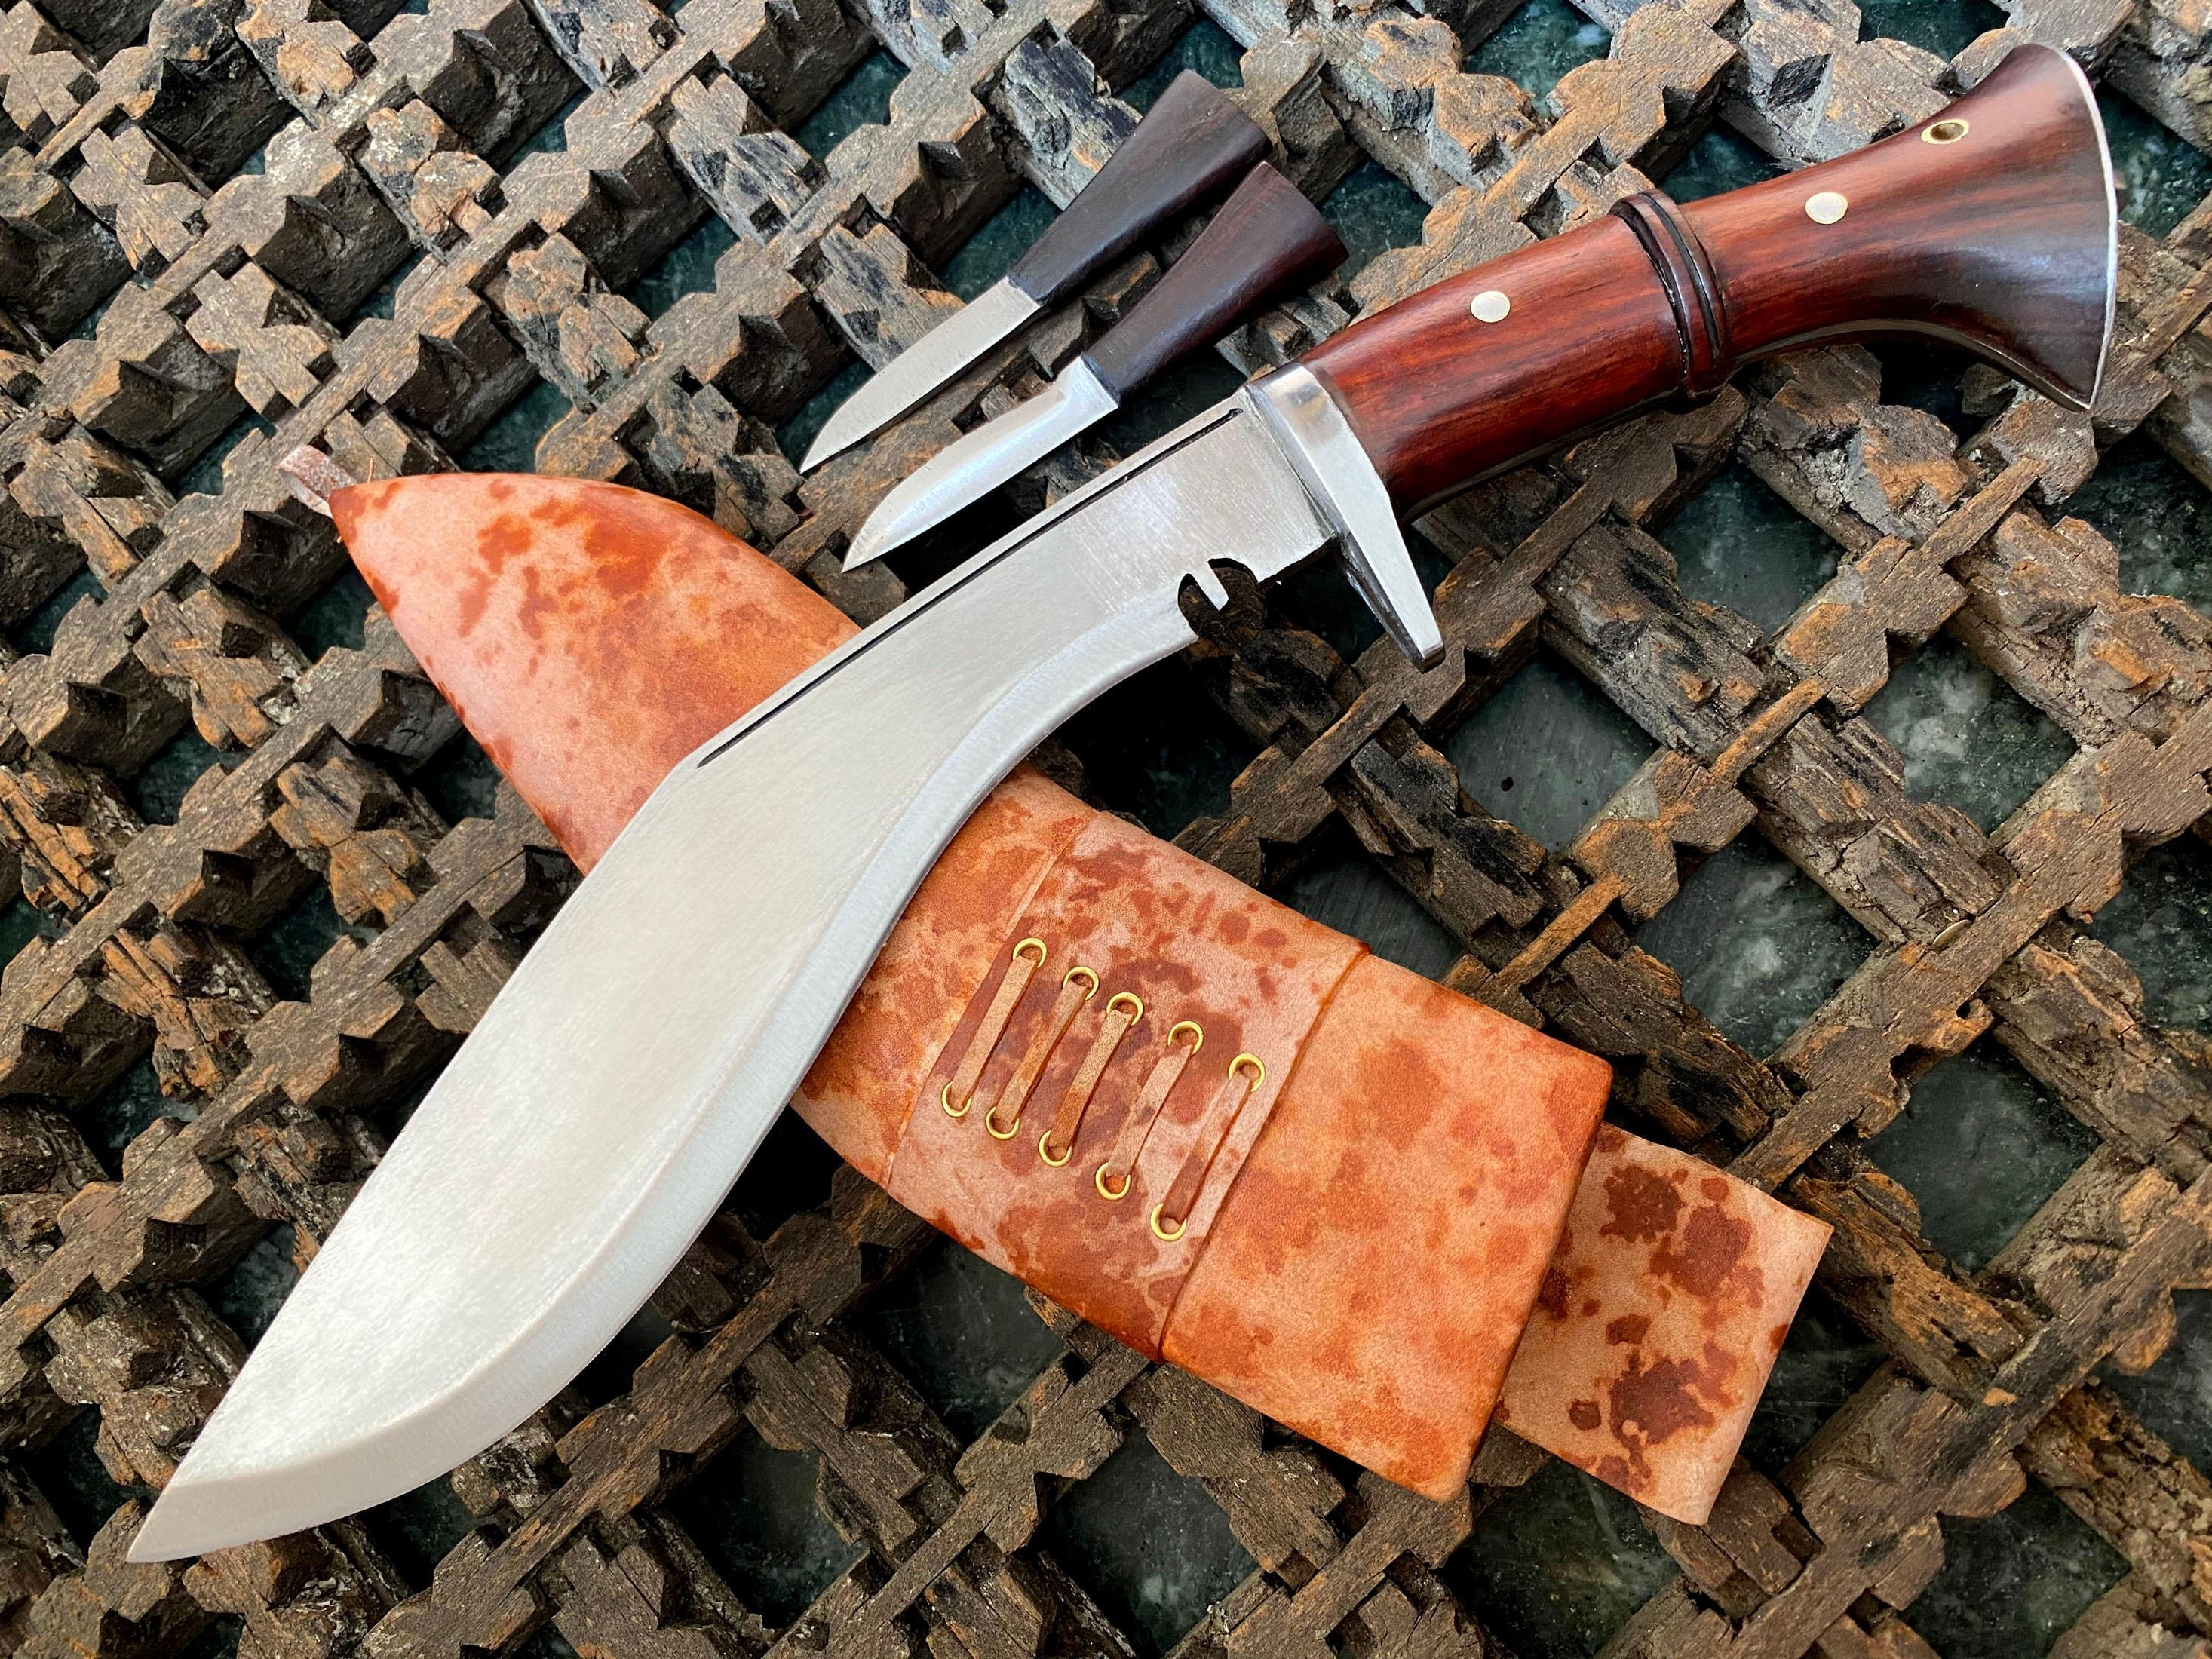facao: (120, 47, 2116, 1572), (809, 61, 1267, 493), (842, 176, 1346, 568)
